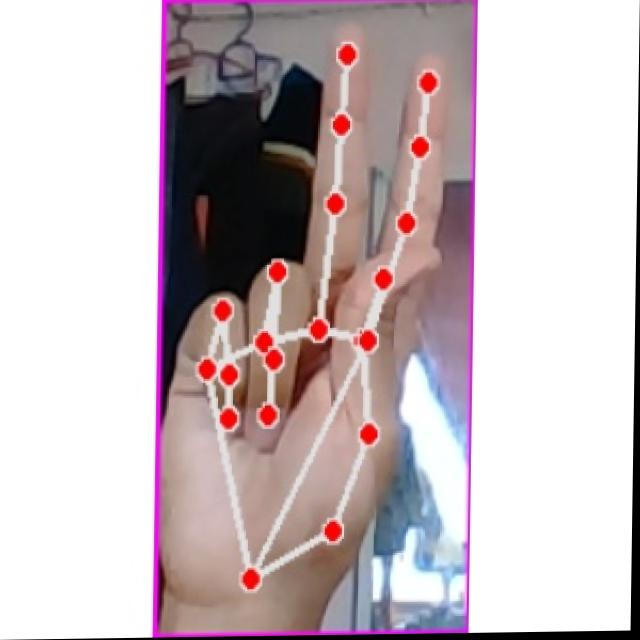K: (167, 19, 460, 601)
